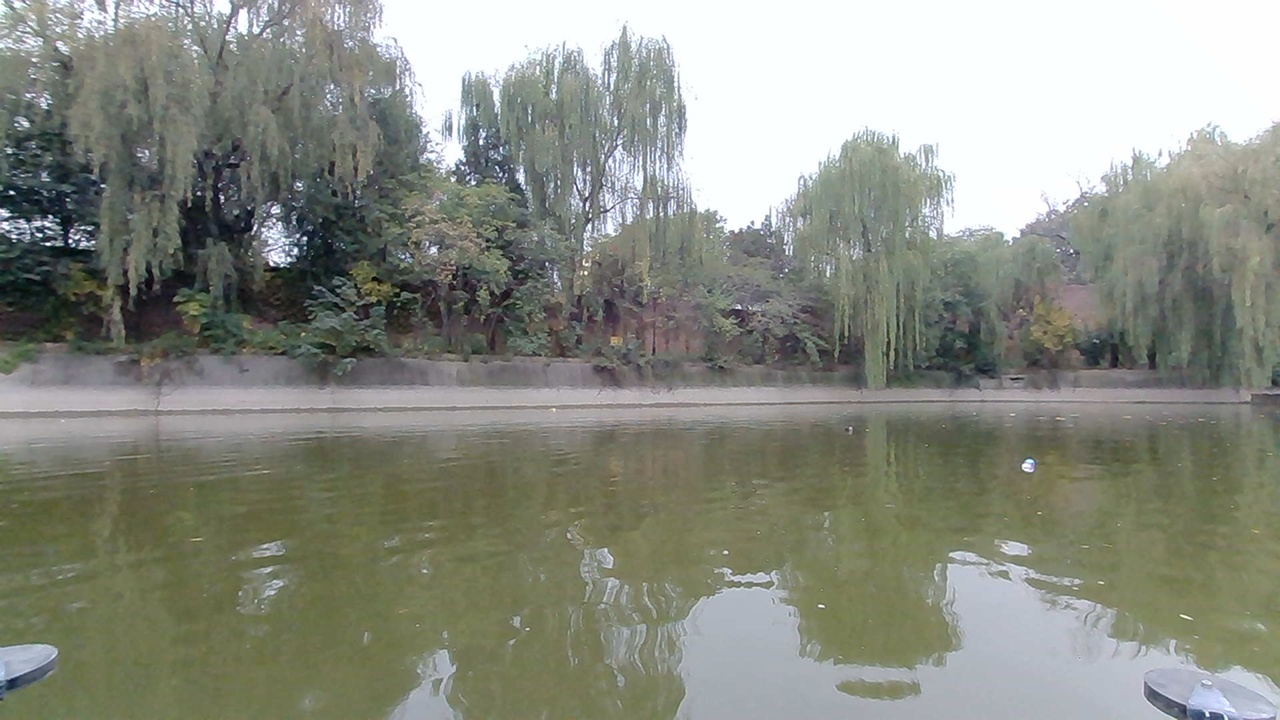bottle: (1003, 449, 1042, 478), (830, 416, 858, 442)
